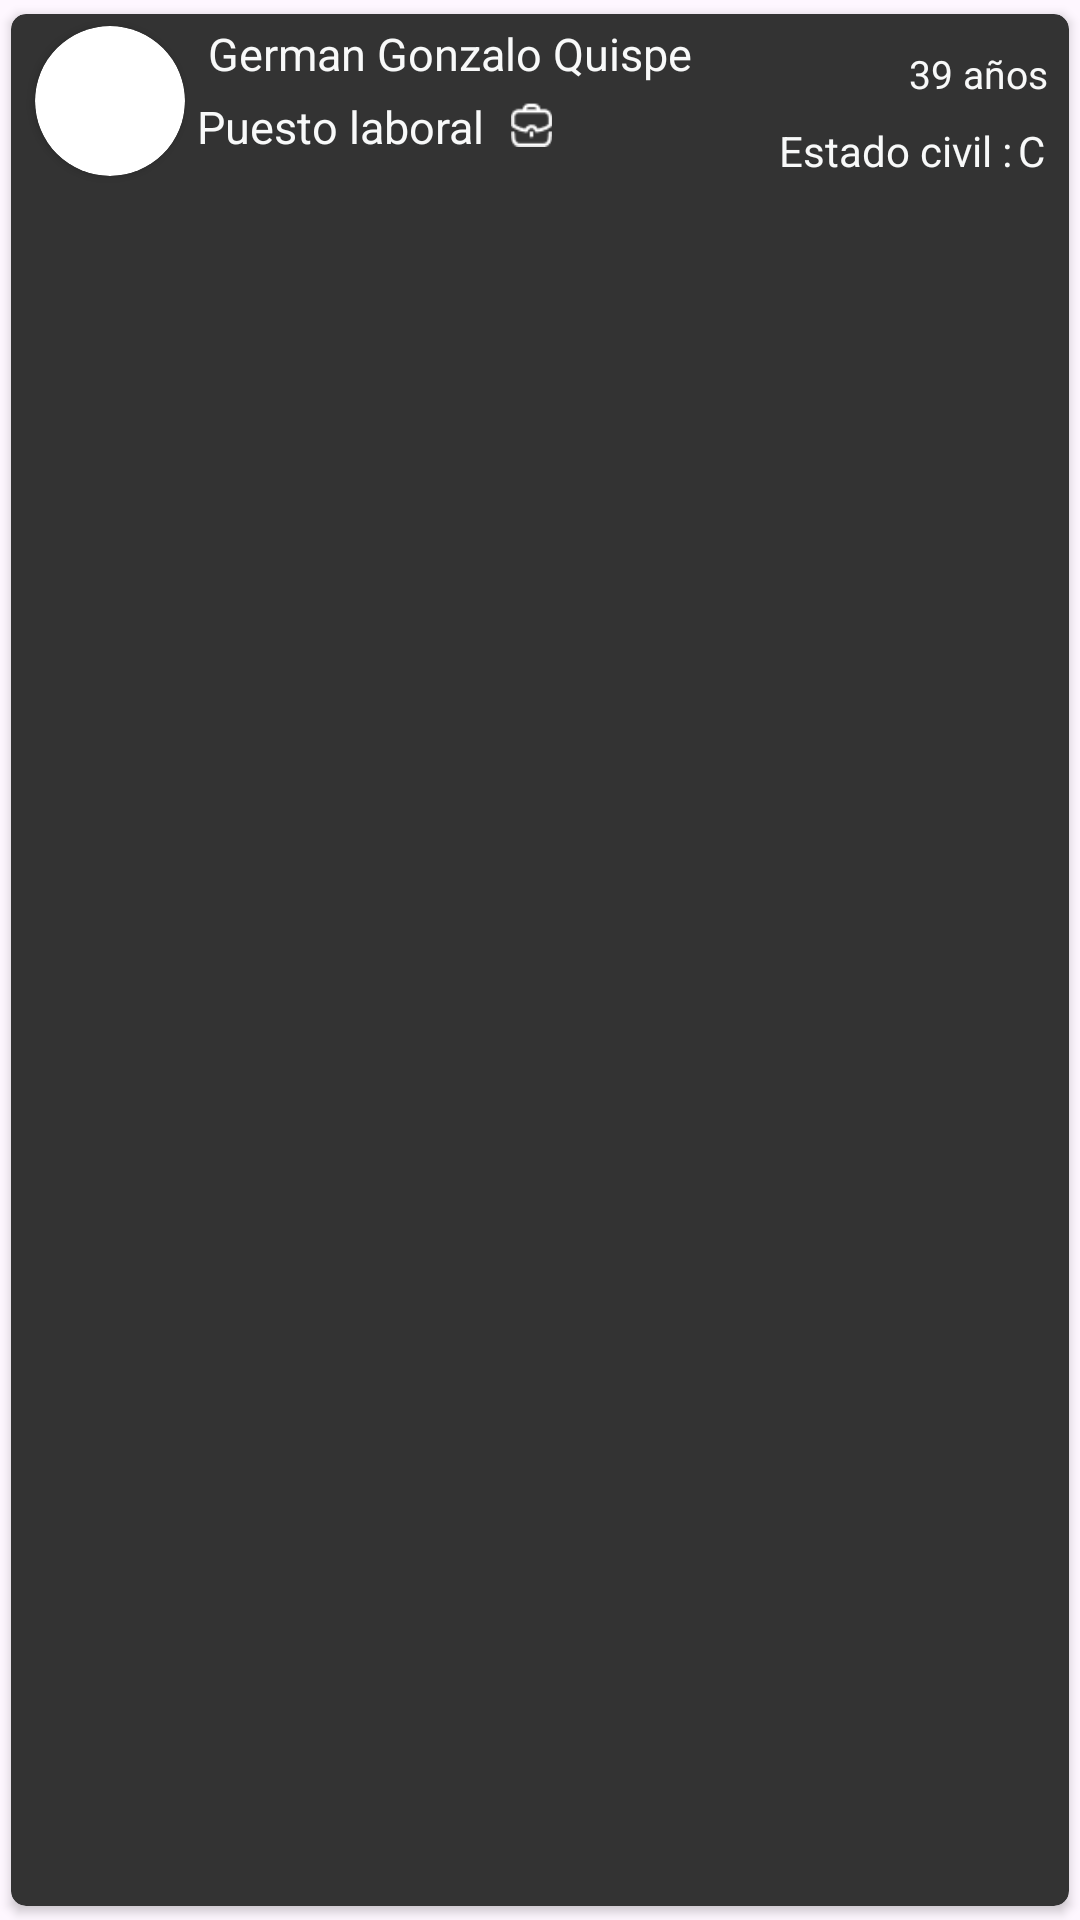

Screen size 1080px×1920px. Icon name, then its box in pixels as BBox(x1, y1, x2, y2):
maletin: BBox(511, 103, 552, 147)
